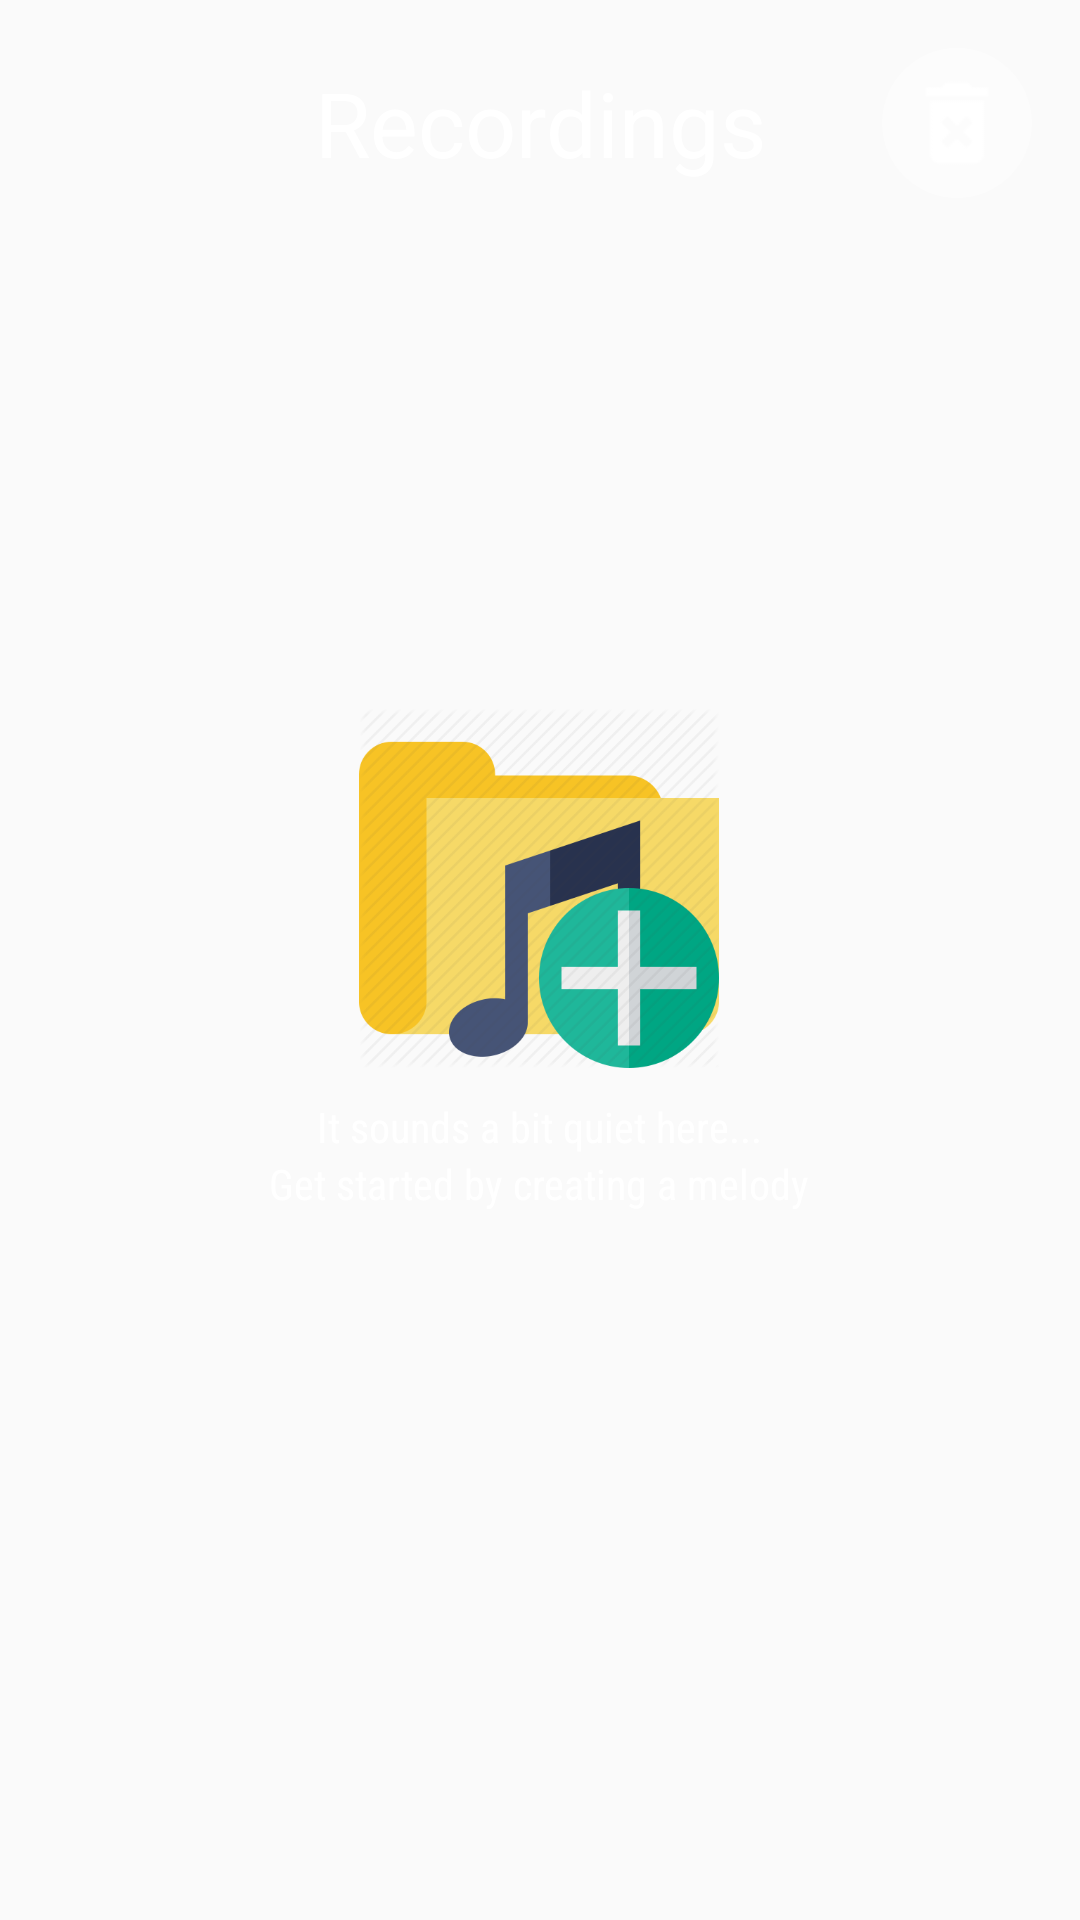

Where icons sit on this 1080×1920 app screen, as (x1, y1, x2, y2):
empty audio list: (359, 741, 719, 1068)
